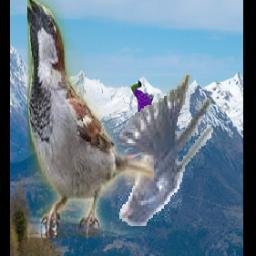Sparrow: (26, 0, 153, 239)
Swallow: (117, 71, 212, 227)
